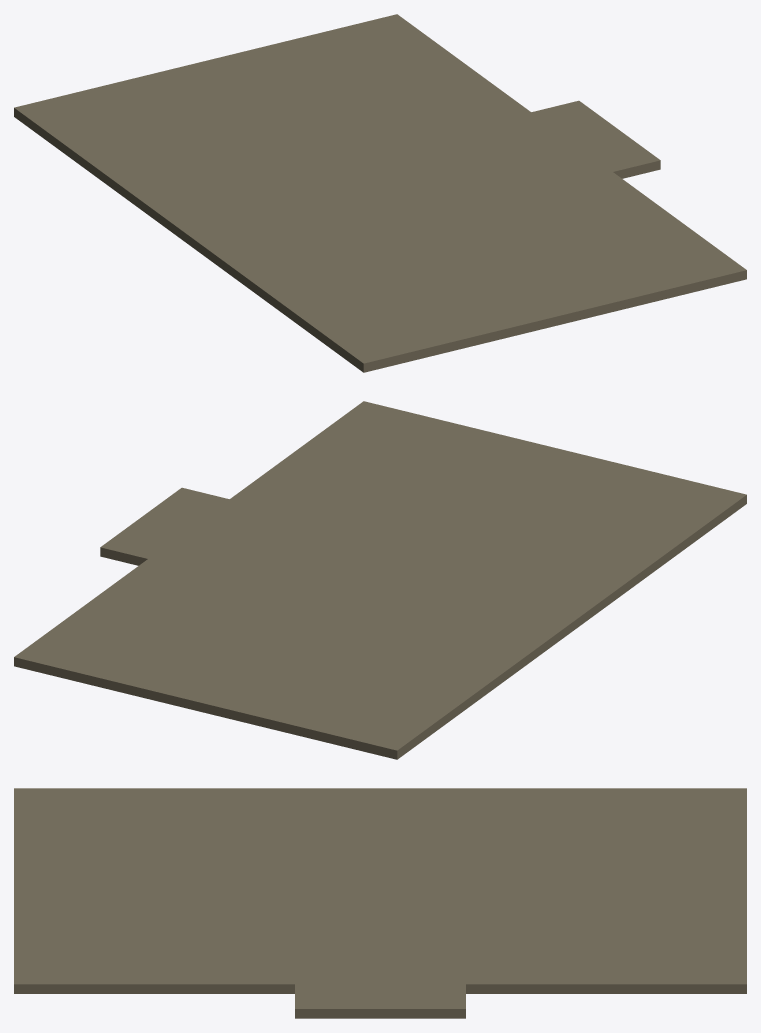
Rendered from TempleTile_M.fbx.
3 renders of one model, top to bottom at view 1: azimuth 30°, elevation 25°; view 2: azimuth 150°, elevation 25°; view 3: azimuth 270°, elevation 25°, orthographic. The views are drawn at different scales.
Visible parts, largest first — view 1: TempleTile_M; view 2: TempleTile_M; view 3: TempleTile_M.
Boxes of the visible parts, x1,y1,x2,y2 form: TempleTile_M: (14,14,746,372); TempleTile_M: (14,401,746,759); TempleTile_M: (14,788,746,1018).
Size of the model in its own units: 2223 by 45.32 by 3123.
